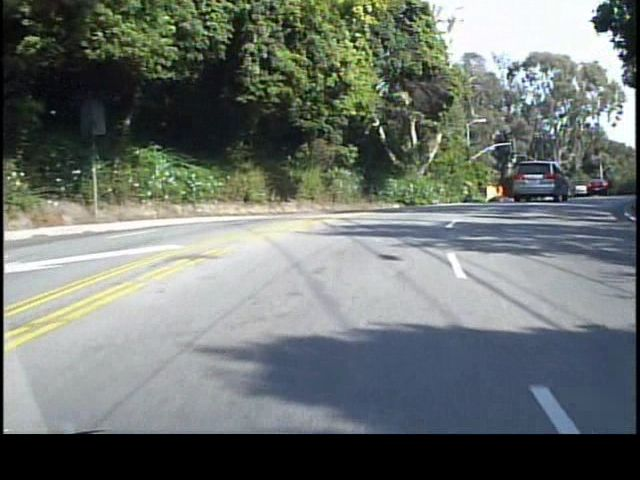car: (504, 159, 568, 202)
strada: (23, 223, 636, 432)
